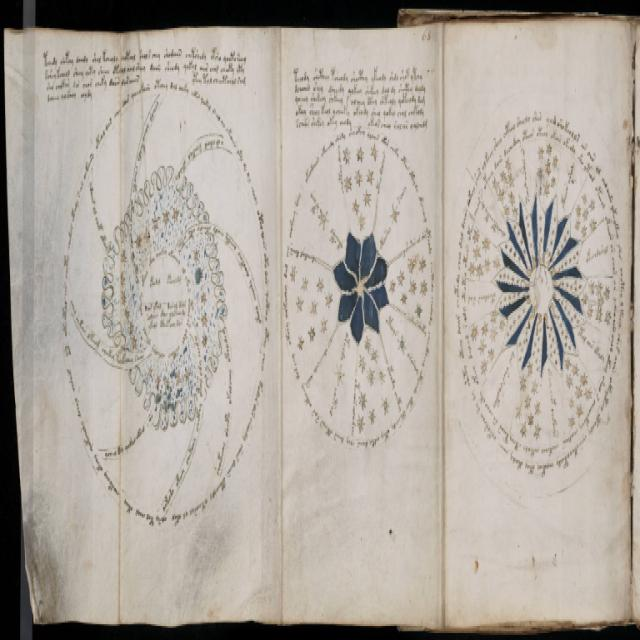ornament_circle: (60, 80, 273, 536), (451, 109, 626, 483), (281, 121, 436, 466)
